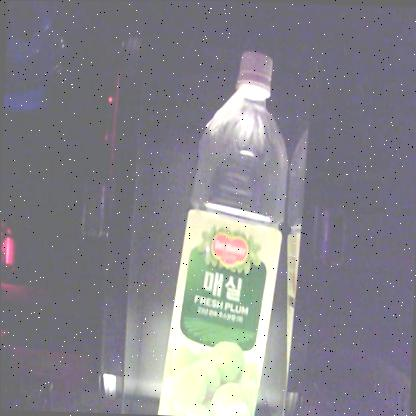Plastic Bottle: (158, 50, 286, 416)
